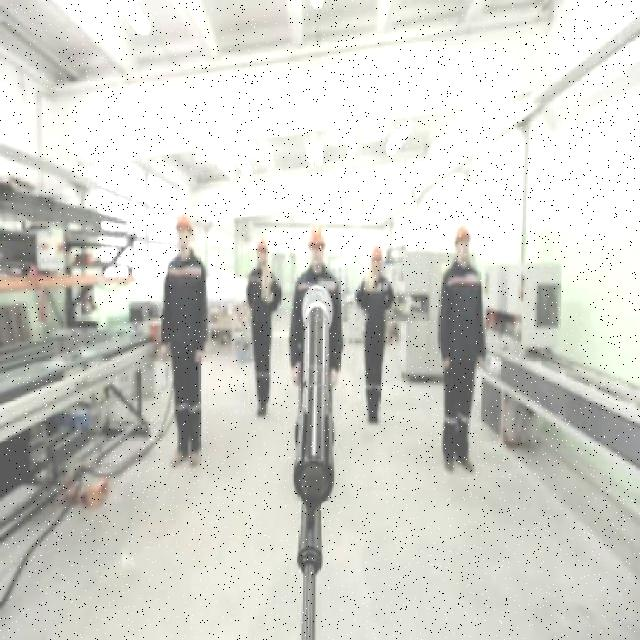Helmet: (306, 227, 326, 250), (173, 214, 194, 232), (454, 224, 472, 238), (368, 246, 386, 260), (254, 237, 268, 251)
Mask: (160, 250, 211, 456), (436, 262, 486, 460), (354, 276, 396, 418), (243, 266, 282, 408)
